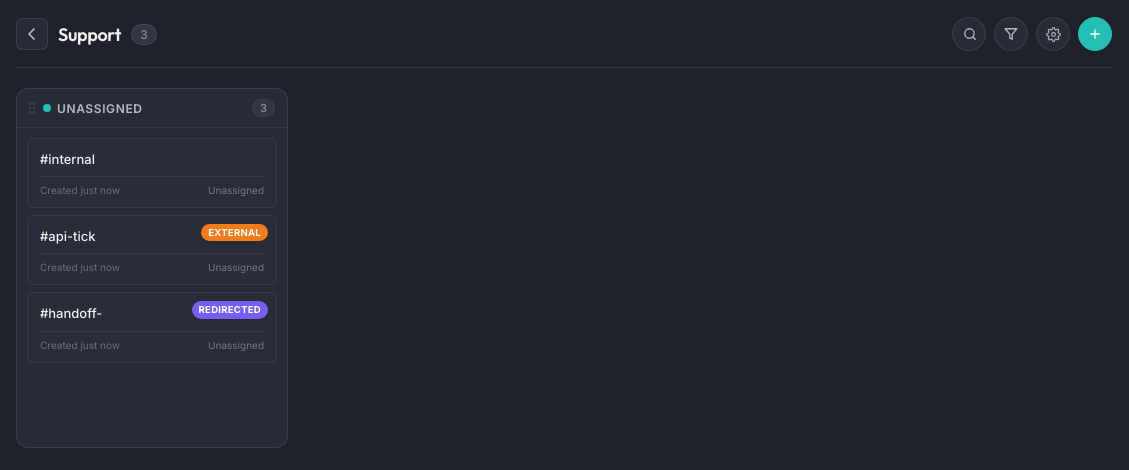
Scenario: WorkflowRecords — Source filter (Internal / External / Redirected) › selecting "Redirected" shows only handoff-origin tickets
The image size is (1129, 470).
Check: the number of elements with class "kb-card" is 3, box top-left (27, 138), bottom-right (277, 208); top-left (27, 215), bottom-right (277, 285); top-left (27, 292), bottom-right (277, 363)
Click the button titled "Filters" at (1011, 34), box top-left (994, 17), bottom-right (1028, 51)
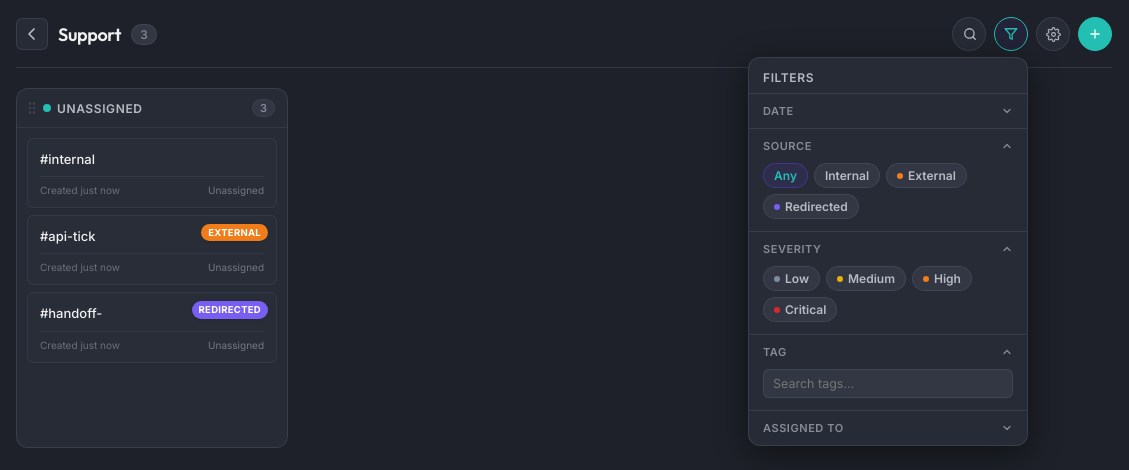
Click the button "Redirected" at (811, 206), box top-left (763, 194), bottom-right (859, 219)
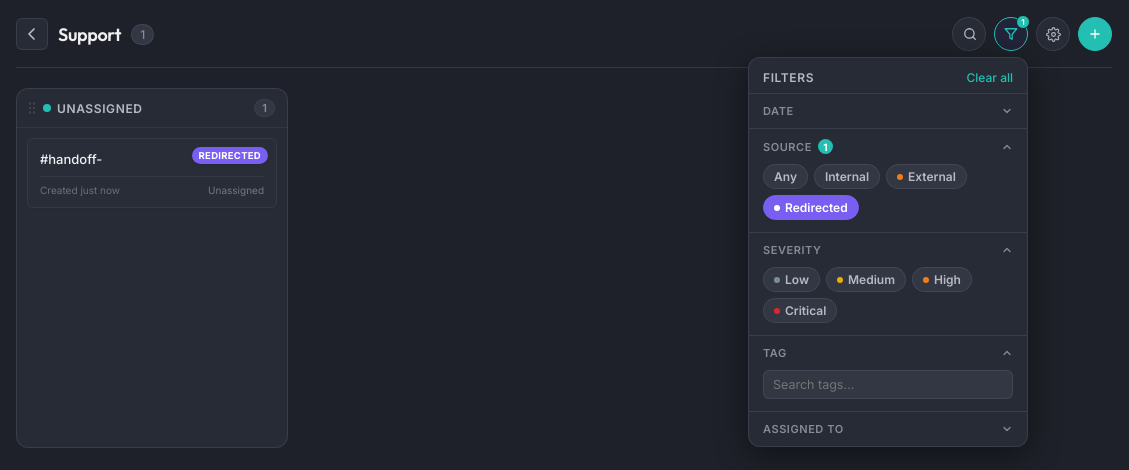
Check: the number of elements with class "kb-card" is 1, box top-left (27, 138), bottom-right (277, 208)
